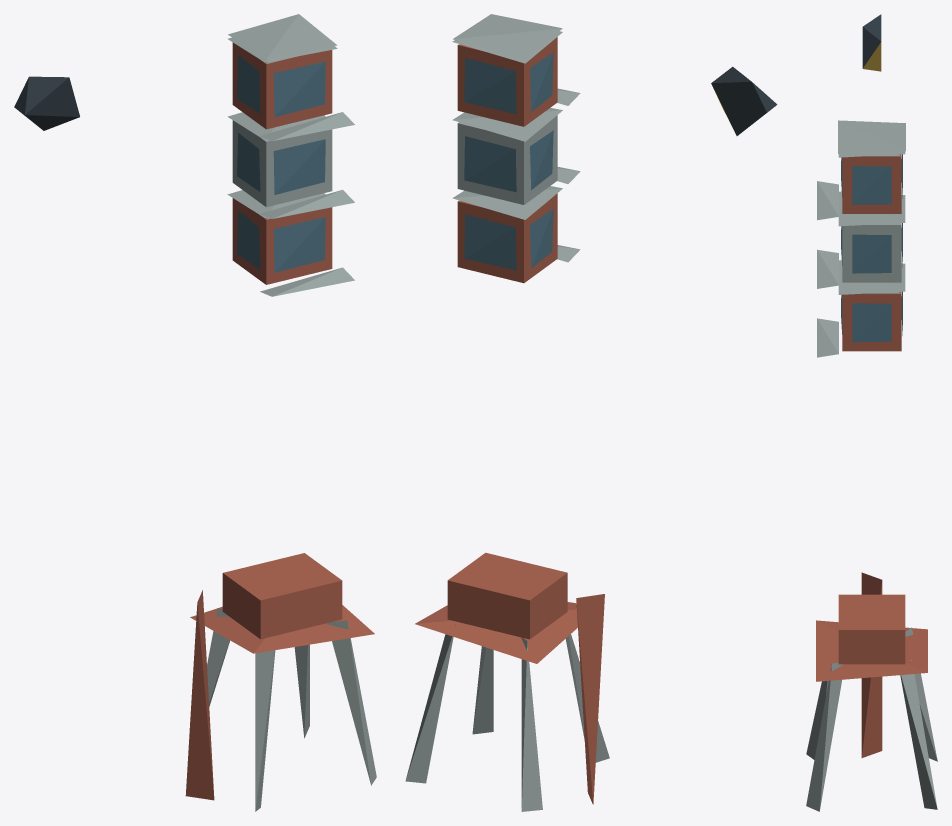
Rendered from faralda-crane-hotel.lod2.glb.
3 renders of one model, left to right at view 1: azimuth 30°, elevation 25°; view 2: azimuth 150°, elevation 25°; view 3: azimuth 270°, elevation 25°, orthographic. The views are drawn at different scales.
Parts seen in each view (by area): view 1: lod2; view 2: lod2; view 3: lod2.
Part boxes in pixels (<box>): lod2: <box>14,14,376,811</box>; lod2: <box>405,14,777,811</box>; lod2: <box>806,14,937,811</box>.
Size of the model in its own units: 22.05 by 48.73 by 8.7.
